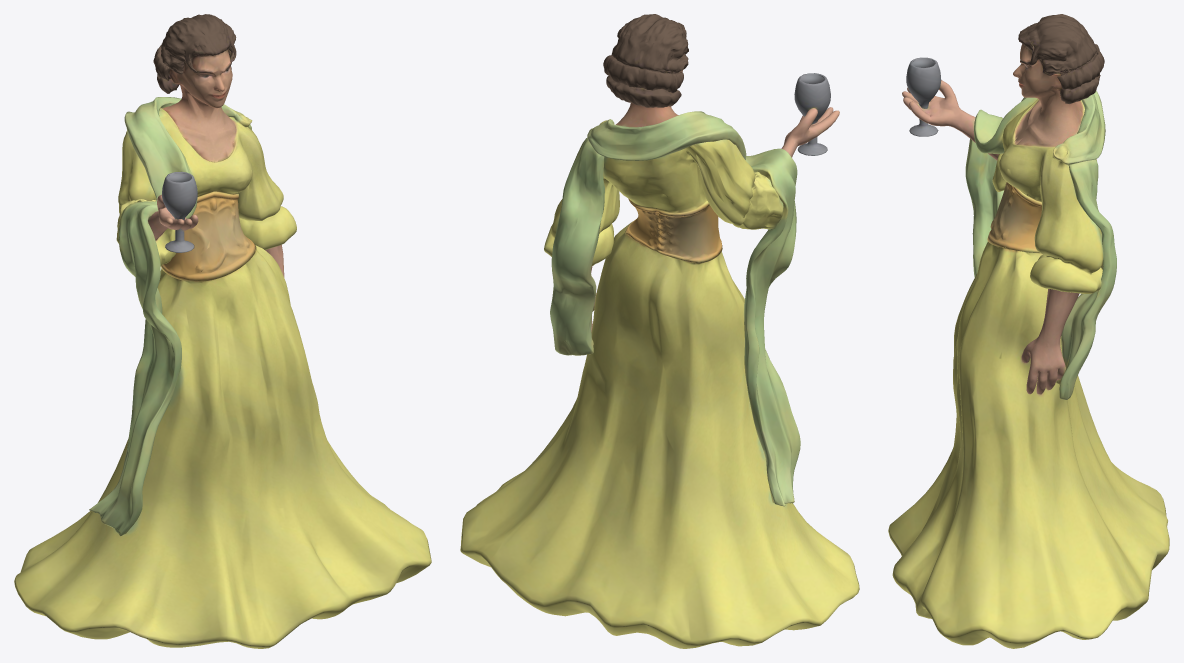
File: MZ4250 - Amalia Female Human.glb
3 views of the same model, side by side, from view 1: azimuth 30°, elevation 25°; view 2: azimuth 150°, elevation 25°; view 3: azimuth 270°, elevation 25° (orthographic). The views are drawn at different scales.
Parts seen in each view (by area): view 1: default; view 2: default; view 3: default.
Part boxes in pixels (x1,y1,x2,y2): default: [14, 14, 431, 648]; default: [460, 14, 859, 648]; default: [888, 14, 1169, 648].
Size of the model in its own units: 0.7213 by 1.1 by 0.4938.
Materials: 1 (1 with a texture image).
